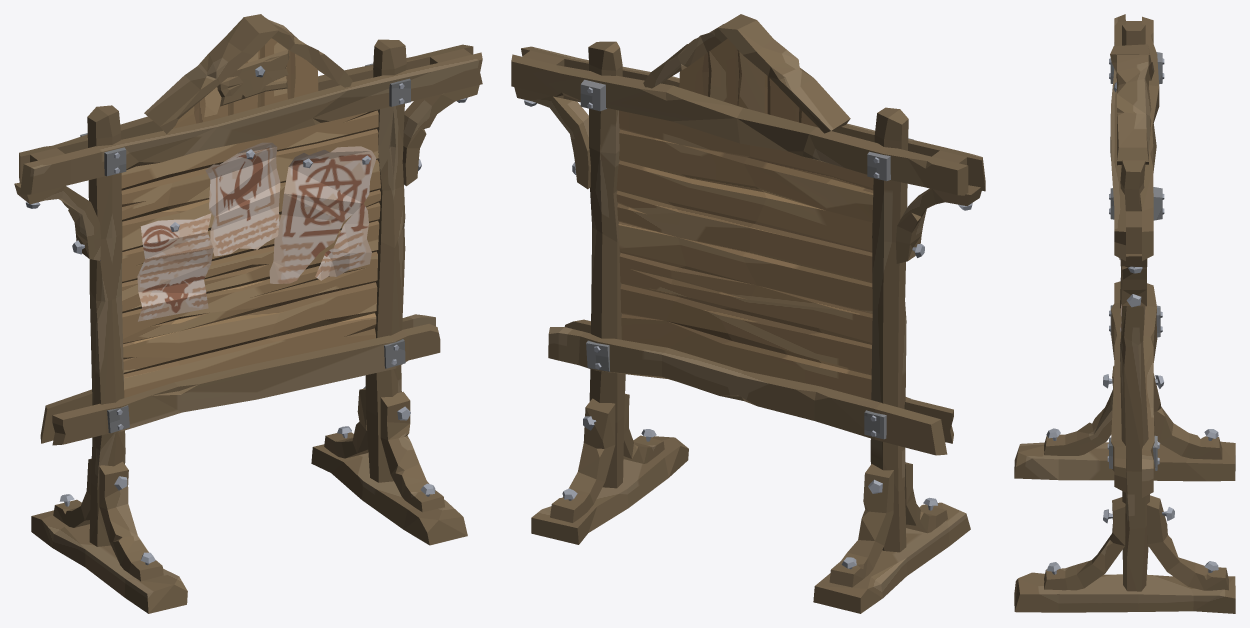
File: crypt_notice.gltf
3 renders of one model, left to right at view 1: azimuth 30°, elevation 25°; view 2: azimuth 150°, elevation 25°; view 3: azimuth 270°, elevation 25°, orthographic. The views are drawn at different scales.
Visible parts, largest first — view 1: crypt_notice; view 2: crypt_notice; view 3: crypt_notice.
Part boxes in pixels (box(x1,y1,x2,y2)): crypt_notice: box(14, 14, 482, 613); crypt_notice: box(511, 14, 985, 613); crypt_notice: box(1014, 14, 1235, 613).
Size of the model in its own units: 2.95 by 3.1 by 1.26.
1 material, 1 textured.
